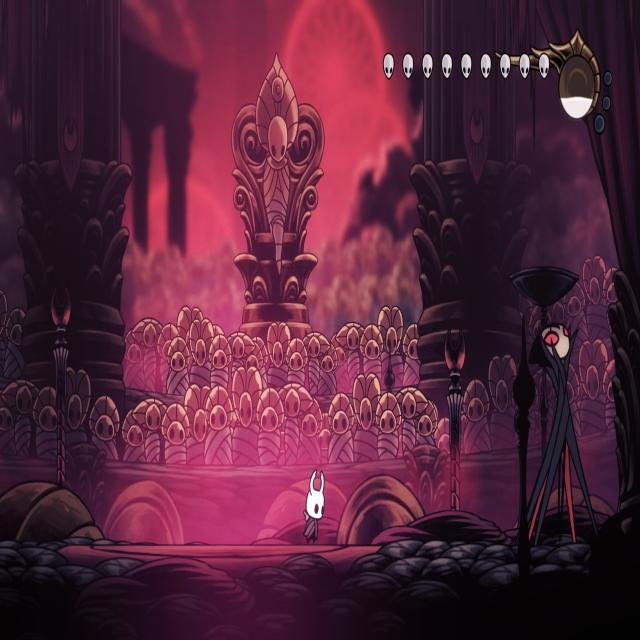Grimm: (520, 312, 602, 544)
Player: (302, 464, 326, 547)
